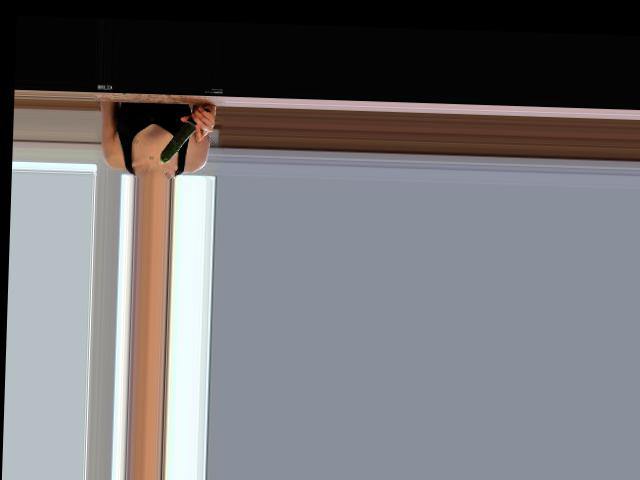cucumber: (160, 106, 210, 165)
